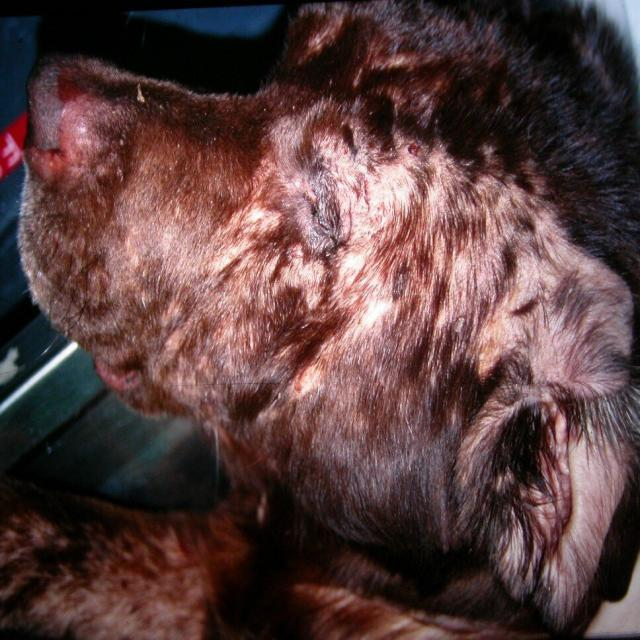allergic dermatitis: (55, 66, 109, 205), (23, 151, 97, 198)
